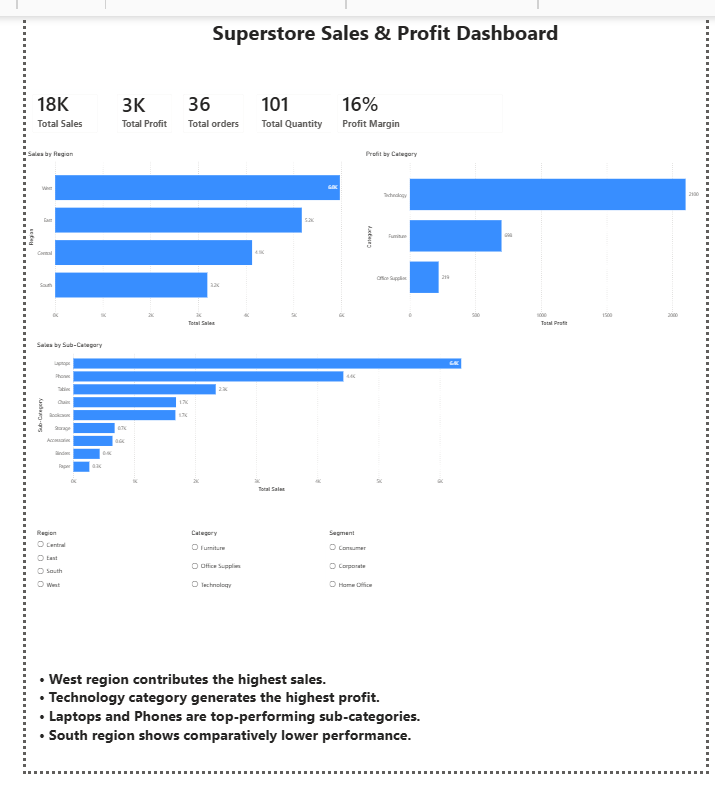

The dashboard page shown, as its layout file describes it:
{"tool":"powerbi","page":{"name":"Page 1","canvas":[1800,2000],"ordinal":0},"visuals":[{"type":"cardVisual","fields":{"Data":["Sheet1.Total Sales"]},"box":[0,187.5,207.5,137.5],"z":0},{"type":"cardVisual","fields":{"Data":["Sheet1.Total Profit"]},"box":[225,187.5,180,137.5],"z":1000},{"type":"cardVisual","fields":{"Data":["Sheet1.Total orders"]},"box":[400,187.5,195,137.5],"z":2000},{"type":"cardVisual","fields":{"Data":["Sheet1.Total Quantity"]},"box":[595,187.5,245,137.5],"z":3000},{"type":"cardVisual","fields":{"Data":["Sheet1.Profit Margin 1"]},"box":[807.5,187.5,472.5,137.5],"z":4000},{"type":"clusteredBarChart","title":"Sales by Region","fields":{"Category":["Sheet1.Region"],"Y":["Sheet1.Total Sales"]},"box":[0,354.5,864.2,470.9],"z":5000},{"type":"clusteredBarChart","title":"Profit by Category","fields":{"Category":["Sheet1.Category"],"Y":["Sheet1.Total Profit"]},"box":[893.3,356.7,903.3,470],"z":6000},{"type":"clusteredBarChart","title":" Sales by Sub-Category","fields":{"Category":["Sheet1.Sub-Category"],"Y":["Sheet1.Total Sales"]},"box":[23.3,863.3,1163.3,403.3],"z":7000},{"type":"listSlicer","title":"Region ","fields":{"Values":["Sheet1.Region"]},"box":[22.2,1357.2,398.8,315.7],"z":8000},{"type":"listSlicer","title":"Category ","fields":{"Values":["Sheet1.Category"]},"box":[432.1,1357.2,365.6,426.5],"z":9000},{"type":"listSlicer","title":"Segment ","fields":{"Values":["Sheet1.Segment"]},"box":[797.7,1357.2,376.7,426.5],"z":10000},{"type":"textbox","box":[105,0,1690,100],"z":11000},{"type":"textbox","box":[27.7,1723.4,1159.6,276.6],"z":12000}]}

Visuals, with their boxes in screenshot pixels (x1, y1, x2, y2), scaled from the page's 1800x2000 canvas onto the 715x785 screenshot:
cardVisual - Sheet1.Total Sales: [0,74,82,128]
cardVisual - Sheet1.Total Profit: [89,74,161,128]
cardVisual - Sheet1.Total orders: [159,74,236,128]
cardVisual - Sheet1.Total Quantity: [236,74,334,128]
cardVisual - Sheet1.Profit Margin 1: [321,74,508,128]
"Sales by Region" clusteredBarChart: [0,139,343,324]
"Profit by Category" clusteredBarChart: [355,140,714,324]
" Sales by Sub-Category" clusteredBarChart: [9,339,471,497]
"Region " listSlicer: [9,533,167,657]
"Category " listSlicer: [172,533,317,700]
"Segment " listSlicer: [317,533,466,700]
textbox: [42,0,713,39]
textbox: [11,676,472,784]
